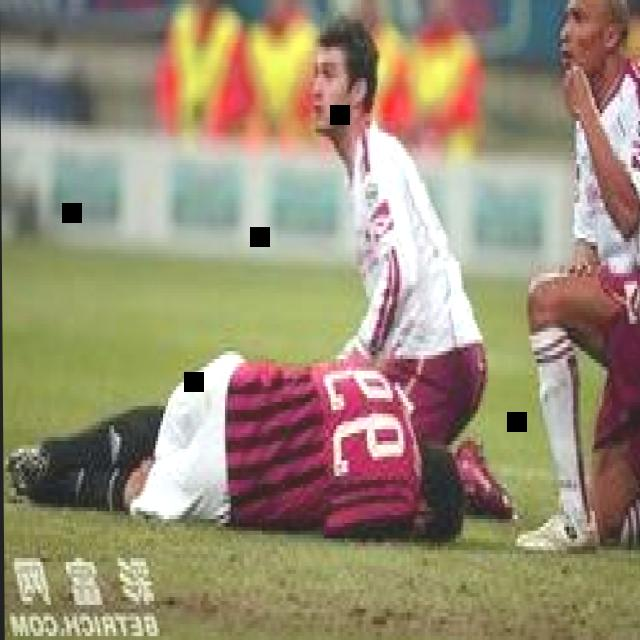Fall-Detected: (7, 328, 499, 542)
